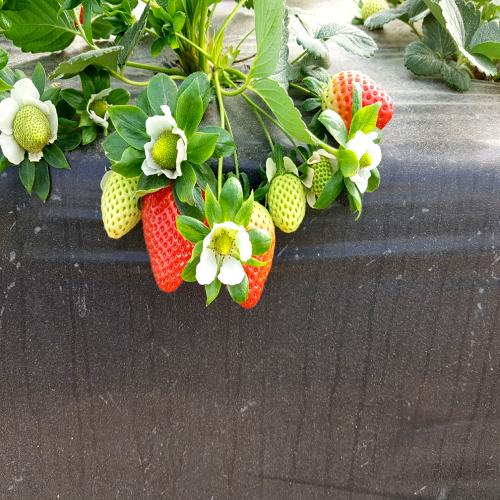partially-ripe: (221, 186, 276, 310), (320, 66, 398, 138)
ripe: (143, 170, 206, 294)
